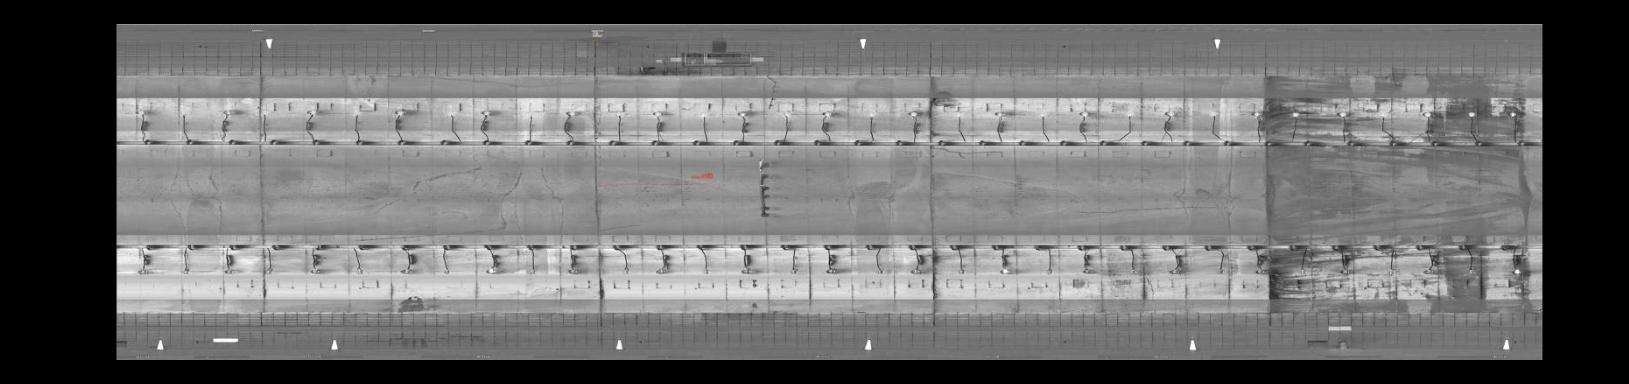light: (655, 264, 675, 278), (1417, 106, 1435, 121), (389, 105, 406, 119), (520, 107, 538, 121), (1158, 107, 1177, 120), (1251, 265, 1271, 277), (301, 105, 317, 120), (477, 106, 493, 120), (609, 108, 627, 120), (1505, 265, 1524, 277), (1376, 107, 1391, 121), (1460, 266, 1481, 276), (735, 266, 756, 276), (645, 107, 665, 118), (699, 265, 716, 278), (558, 107, 576, 119), (1332, 108, 1350, 120), (731, 108, 750, 119), (903, 108, 922, 119), (1335, 266, 1354, 277), (1168, 266, 1186, 277), (482, 265, 501, 276), (256, 107, 270, 121), (1077, 107, 1093, 120), (1464, 107, 1479, 120), (620, 264, 636, 277), (1078, 265, 1095, 277), (953, 265, 969, 277), (1420, 265, 1438, 276), (218, 106, 233, 119), (694, 108, 709, 121), (261, 264, 275, 277), (347, 107, 363, 119), (442, 107, 457, 119), (951, 107, 966, 119), (1248, 108, 1263, 120), (1203, 107, 1220, 118), (1382, 266, 1398, 277), (786, 266, 803, 277), (438, 265, 455, 276), (816, 109, 835, 118), (397, 266, 415, 276), (177, 107, 190, 120), (1505, 108, 1520, 120), (178, 266, 193, 277), (134, 266, 150, 277), (822, 266, 838, 276), (351, 266, 368, 276), (564, 266, 580, 276), (308, 266, 323, 276), (220, 266, 236, 276), (1285, 110, 1302, 119), (1126, 266, 1139, 278), (525, 267, 541, 276), (133, 107, 146, 118), (1121, 108, 1134, 119), (1296, 267, 1310, 277), (1042, 266, 1057, 276), (907, 266, 922, 276), (1035, 111, 1050, 120), (1212, 268, 1229, 276), (780, 107, 791, 119), (872, 269, 887, 277), (992, 108, 1006, 117), (998, 267, 1012, 276), (864, 110, 876, 120)
